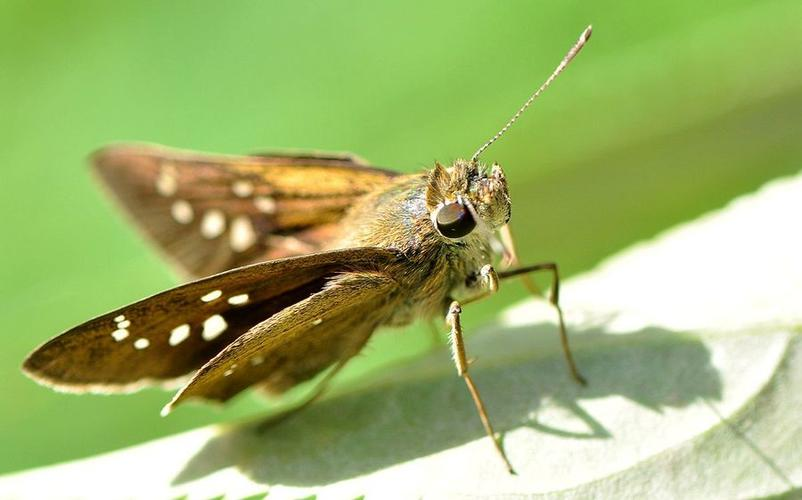Hesperiidae: (30, 20, 609, 469)
